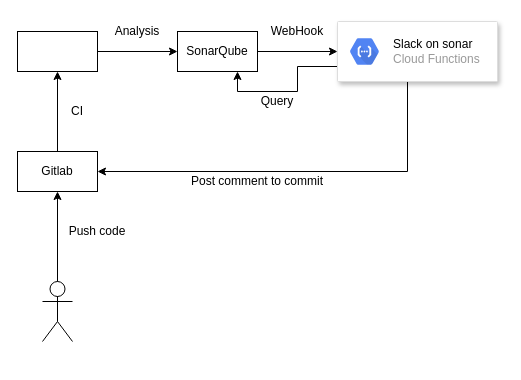
Some shapes in this 521 by 380 pixel diagram are drawn without their labels. Here are the shapes that lost their labels. From the top down, the centre of each, then its label:
the point at 57,51: Runner
the point at 57,311: Developer
